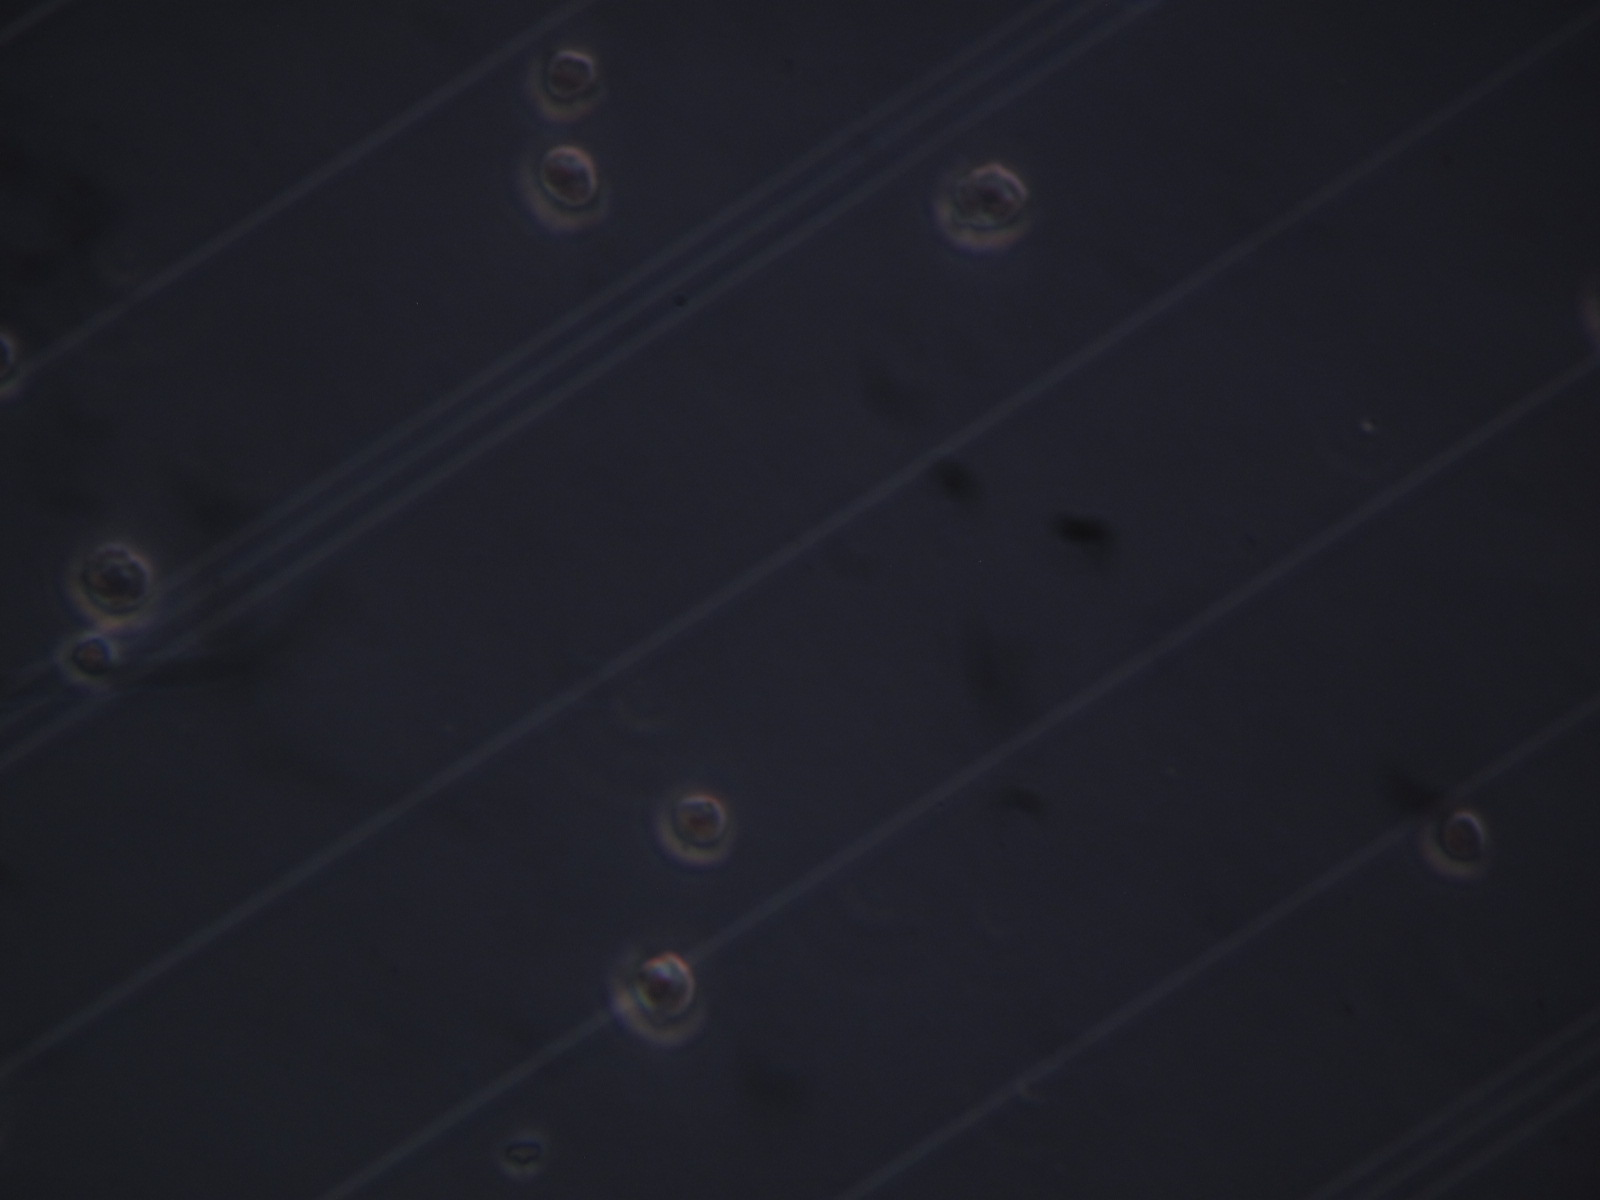hemo: (614, 944, 709, 1051), (932, 158, 1031, 257), (74, 536, 160, 632), (653, 780, 740, 870), (527, 142, 609, 231), (527, 45, 609, 122), (1424, 799, 1488, 880), (55, 629, 123, 688)
